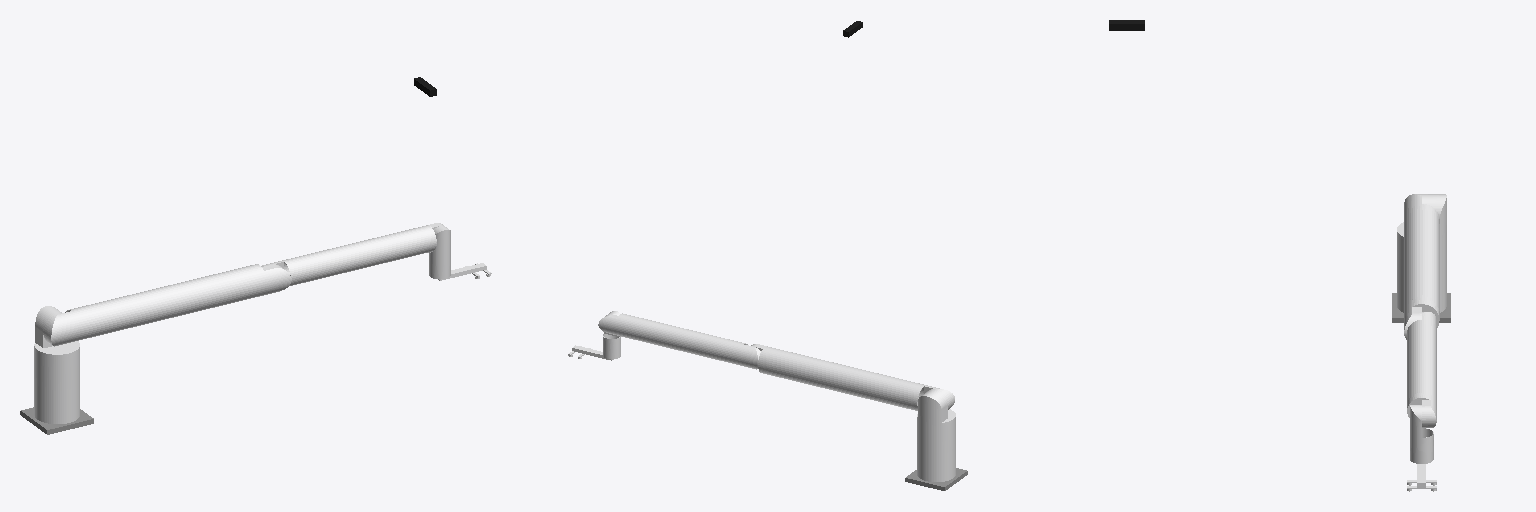
robot.urdf — band_gruppebot:
<?xml version="1.0" ?>
<!-- =================================================================================== -->
<!-- |    This document was autogenerated by xacro from urdf/band_gruppebot.urdf.xacro     | -->
<!-- |    EDITING THIS FILE BY HAND IS NOT RECOMMENDED                                 | -->
<!-- =================================================================================== -->
<!--
  band_gruppebot - komplett robotsystem (krav 5.i)

  Denne fila setter sammen:
    1. robotarmen fra Fusion (urdf/assemblies/band_gruppebot.urdf.xacro)
    2. feste til verden (world), slik at roboten ikke velter i Gazebo
    3. dh_base: basisrammen som DH-tabellen i MATLAB bruker (oppå fotplata)
    4. tcp_link: verktøypunktet (sugekoppene)
    5. kameraet over båndet
    6. ros2_control + Gazebo-plugin (bare når sim_gazebo:=true)

  Argumenter:
    prefix:=...           prefiks på ledd/lenker
    sim_gazebo:=true      bruk Gazebo som "hardware" (ellers mock_components)
    kamera_sensor:=true   la Gazebo rendre kamerabilde (krever GPU/OpenGL)
    antall_esker:=6       antall esker (eske1, eske2, ...) som vakuumet kan holde
-->
<robot name="band_gruppebot">
  <!-- Materials (shared across all assemblies) -->
  <material name="Steel">
    <color rgba="0.627 0.627 0.627 1.0"/>
  </material>
  <material name="Aluminum">
    <color rgba="0.961 0.961 0.965 1.0"/>
  </material>
  <material name="Kamera">
    <color rgba="0.15 0.15 0.15 1.0"/>
  </material>
  <!-- Links -->
  <link name="base_link">
    <inertial>
      <origin rpy="0 0 0" xyz="0.000000 0.000000 0.009985"/>
      <mass value="6.267669"/>
      <inertia ixx="2.114164e-02" ixy="0.000000e+00" ixz="0.000000e+00" iyy="2.114164e-02" iyz="0.000000e+00" izz="4.186605e-02"/>
    </inertial>
    <visual>
      <origin rpy="0.000000 0.000000 0.000000" xyz="0.000000 0.000000 0.000000"/>
      <geometry>
        <mesh filename="package://band_gruppebot/meshes/band_gruppebot/base_link.dae" scale="1 1 1"/>
      </geometry>
      <material name="Steel"/>
    </visual>
    <collision>
      <origin rpy="0.000000 0.000000 0.000000" xyz="0.000000 0.000000 0.000000"/>
      <geometry>
        <mesh filename="package://band_gruppebot/meshes/band_gruppebot/base_link_collision.stl" scale="0.01 0.01 0.01"/>
      </geometry>
    </collision>
  </link>
  <link name="shoulder_link">
    <inertial>
      <origin rpy="0 0 0" xyz="-0.000000 0.033386 0.315321"/>
      <mass value="3.344565"/>
      <inertia ixx="3.043471e-02" ixy="-8.567490e-10" ixz="3.745206e-09" iyy="3.105513e-02" iyz="-3.633313e-03" izz="8.309956e-03"/>
    </inertial>
    <visual>
      <origin rpy="0.000000 0.000000 0.000000" xyz="0.000000 0.000000 0.005000"/>
      <geometry>
        <mesh filename="package://band_gruppebot/meshes/band_gruppebot/shoulder_link.dae" scale="1 1 1"/>
      </geometry>
      <material name="Aluminum"/>
    </visual>
    <collision>
      <origin rpy="0.000000 0.000000 0.000000" xyz="0.000000 0.000000 0.005000"/>
      <geometry>
        <mesh filename="package://band_gruppebot/meshes/band_gruppebot/shoulder_link_collision.stl" scale="0.01 0.01 0.01"/>
      </geometry>
    </collision>
  </link>
  <link name="link1">
    <inertial>
      <origin rpy="0 0 0" xyz="0.408620 0.000000 0.025613"/>
      <mass value="3.873242"/>
      <inertia ixx="6.431192e-03" ixy="0.000000e+00" ixz="2.503152e-04" iyy="6.715709e-01" iyz="0.000000e+00" izz="6.725922e-01"/>
    </inertial>
    <visual>
      <origin rpy="0.000000 1.570796 0.000000" xyz="0.000000 0.000000 0.005016"/>
      <geometry>
        <mesh filename="package://band_gruppebot/meshes/band_gruppebot/link1.dae" scale="1 1 1"/>
      </geometry>
      <material name="Aluminum"/>
    </visual>
    <collision>
      <origin rpy="0.000000 1.570796 0.000000" xyz="0.000000 0.000000 0.005016"/>
      <geometry>
        <mesh filename="package://band_gruppebot/meshes/band_gruppebot/link1_collision.stl" scale="0.01 0.01 0.01"/>
      </geometry>
    </collision>
  </link>
  <link name="link2">
    <inertial>
      <origin rpy="0 0 0" xyz="0.309362 0.000000 -0.021661"/>
      <mass value="2.256077"/>
      <inertia ixx="2.691771e-03" ixy="0.000000e+00" ixz="-9.486061e-05" iyy="2.320565e-01" iyz="0.000000e+00" izz="2.324156e-01"/>
    </inertial>
    <visual>
      <origin rpy="-3.141593 -1.570796 0.000000" xyz="0.000000 0.000000 -0.005016"/>
      <geometry>
        <mesh filename="package://band_gruppebot/meshes/band_gruppebot/link2.dae" scale="1 1 1"/>
      </geometry>
      <material name="Aluminum"/>
    </visual>
    <collision>
      <origin rpy="-3.141593 -1.570796 0.000000" xyz="0.000000 0.000000 -0.005016"/>
      <geometry>
        <mesh filename="package://band_gruppebot/meshes/band_gruppebot/link2_collision.stl" scale="0.01 0.01 0.01"/>
      </geometry>
    </collision>
  </link>
  <link name="link3">
    <inertial>
      <origin rpy="0 0 0" xyz="-0.000000 -0.034255 0.018632"/>
      <mass value="0.818636"/>
      <inertia ixx="2.587701e-03" ixy="0.000000e+00" ixz="0.000000e+00" iyy="5.226183e-04" iyz="-2.341627e-04" izz="2.718987e-03"/>
    </inertial>
    <visual>
      <origin rpy="1.570796 -1.570796 0.000000" xyz="0.000000 0.000000 0.005016"/>
      <geometry>
        <mesh filename="package://band_gruppebot/meshes/band_gruppebot/link3.dae" scale="1 1 1"/>
      </geometry>
      <material name="Aluminum"/>
    </visual>
    <collision>
      <origin rpy="1.570796 -1.570796 0.000000" xyz="0.000000 0.000000 0.005016"/>
      <geometry>
        <mesh filename="package://band_gruppebot/meshes/band_gruppebot/link3_collision.stl" scale="0.01 0.01 0.01"/>
      </geometry>
    </collision>
  </link>
  <link name="gripper">
    <inertial>
      <origin rpy="0 0 0" xyz="0.119141 0.000000 0.018417"/>
      <mass value="0.090864"/>
      <inertia ixx="4.767636e-05" ixy="0.000000e+00" ixz="-2.251846e-05" iyy="3.554728e-04" iyz="0.000000e+00" izz="3.914721e-04"/>
    </inertial>
    <visual>
      <origin rpy="0.000000 0.000000 -1.570796" xyz="0.000000 0.000000 0.006000"/>
      <geometry>
        <mesh filename="package://band_gruppebot/meshes/band_gruppebot/gripper.dae" scale="1 1 1"/>
      </geometry>
      <material name="Aluminum"/>
    </visual>
    <collision>
      <origin rpy="0.000000 0.000000 -1.570796" xyz="0.000000 0.000000 0.006000"/>
      <geometry>
        <mesh filename="package://band_gruppebot/meshes/band_gruppebot/gripper_collision.stl" scale="0.01 0.01 0.01"/>
      </geometry>
    </collision>
  </link>
  <!-- Joints (internal to assembly) -->
  <joint name="Revolute_1" type="continuous">
    <parent link="base_link"/>
    <child link="shoulder_link"/>
    <origin rpy="0.000000 0.000000 0.000000" xyz="0.000000 0.000000 0.015000"/>
    <axis xyz="0.000000 0.000000 1.000000"/>
    <limit effort="300.0" velocity="10.0"/>
  </joint>
  <joint name="Revolute_2" type="continuous">
    <parent link="shoulder_link"/>
    <child link="link1"/>
    <origin rpy="1.570796 0.000000 0.000000" xyz="0.000000 0.005000 0.355000"/>
    <axis xyz="0.000000 0.000000 1.000000"/>
    <limit effort="500.0" velocity="10.0"/>
  </joint>
  <joint name="Revolute_3" type="continuous">
    <parent link="link1"/>
    <child link="link2"/>
    <origin rpy="0.000000 0.000000 0.000000" xyz="0.920000 0.000000 0.010016"/>
    <axis xyz="0.000000 0.000000 1.000000"/>
    <limit effort="300.0" velocity="10.0"/>
  </joint>
  <joint name="Revolute_4" type="continuous">
    <parent link="link2"/>
    <child link="link3"/>
    <origin rpy="0.000000 0.000000 0.000000" xyz="0.720000 0.000000 -0.010016"/>
    <axis xyz="0.000000 0.000000 1.000000"/>
    <limit effort="100.0" velocity="10.0"/>
  </joint>
  <joint name="Revolute_5" type="continuous">
    <parent link="link3"/>
    <child link="gripper"/>
    <origin rpy="1.570796 0.000000 0.000000" xyz="0.000000 -0.155000 0.005016"/>
    <axis xyz="0.000000 0.000000 1.000000"/>
    <limit effort="50.0" velocity="10.0"/>
  </joint>

  <link name="world"/>
  <joint name="world_fixed" type="fixed">
    <parent link="world"/>
    <child link="base_link"/>
    <origin rpy="0 0 0" xyz="0 0 0"/>
  </joint>

  <link name="dh_base"/>
  <joint name="base_to_dh_base" type="fixed">
    <parent link="base_link"/>
    <child link="dh_base"/>
    <origin rpy="0 0 0" xyz="0 0 0.02"/>
  </joint>

  <link name="tcp_link"/>
  <joint name="gripper_to_tcp" type="fixed">
    <parent link="gripper"/>
    <child link="tcp_link"/>
    <origin rpy="0.0 0.0 0.0" xyz="0.17 0.0 0.035"/>
  </joint>
  
  <link name="kamera_link">
    <inertial>
      <origin rpy="0 0 0" xyz="0 0 0"/>
      <mass value="0.4"/>
      <inertia ixx="5e-4" ixy="0" ixz="0" iyy="5e-4" iyz="0" izz="5e-4"/>
    </inertial>
    <visual>
      <origin rpy="0 0 0" xyz="-0.013 0 0"/>
      <geometry>
        <box size="0.026 0.124 0.029"/>
      </geometry>
      <material name="Kamera"/>
    </visual>
  </link>
  <joint name="base_to_kamera" type="fixed">
    <parent link="dh_base"/>
    <child link="kamera_link"/>
    <origin rpy="0 1.5707963267948966 0" xyz="1.0 -1.0 1.5"/>
  </joint>
  <link name="kamera_optisk"/>
  <joint name="kamera_to_optisk" type="fixed">
    <parent link="kamera_link"/>
    <child link="kamera_optisk"/>
    <!-- gir dh_base -> kamera_optisk = Rx(pi) -->
    <origin rpy="3.141592653589793 -1.5707963267948966 0" xyz="0 0 0"/>
  </joint>
  <ros2_control name="band_gruppebot_system" type="system">
    <hardware>
      <plugin>mock_components/GenericSystem</plugin>
    </hardware>
    <joint name="Revolute_1">
      <command_interface name="velocity"/>
      <state_interface name="position">
        <param name="initial_value">0.0</param>
      </state_interface>
      <state_interface name="velocity"/>
      <state_interface name="effort"/>
    </joint>
    <joint name="Revolute_2">
      <command_interface name="velocity"/>
      <state_interface name="position">
        <param name="initial_value">1.6371</param>
      </state_interface>
      <state_interface name="velocity"/>
      <state_interface name="effort"/>
    </joint>
    <joint name="Revolute_3">
      <command_interface name="velocity"/>
      <state_interface name="position">
        <param name="initial_value">-2.1101</param>
      </state_interface>
      <state_interface name="velocity"/>
      <state_interface name="effort"/>
    </joint>
    <joint name="Revolute_4">
      <command_interface name="velocity"/>
      <state_interface name="position">
        <param name="initial_value">0.473</param>
      </state_interface>
      <state_interface name="velocity"/>
      <state_interface name="effort"/>
    </joint>
    <joint name="Revolute_5">
      <command_interface name="velocity"/>
      <state_interface name="position">
        <param name="initial_value">0.0</param>
      </state_interface>
      <state_interface name="velocity"/>
      <state_interface name="effort"/>
    </joint>
  </ros2_control>
</robot>

--- Render facts (derived) ---
The picture shows the robot from 3 angles, left to right: view 1: azimuth 30°, elevation 25°; view 2: azimuth 150°, elevation 25°; view 3: azimuth 270°, elevation 25°; orthographic projection.
Model band_gruppebot with 11 links and 10 joints (5 continuous, 5 fixed), rooted at world, posed all joints at 0.
Links seen in each view (by area): view 1: link1, link2, shoulder_link, link3, base_link; view 2: link1, link2, shoulder_link; view 3: link1, link2, shoulder_link, link3.
Boxes of the visible links, box(x1,y1,x2,y2) form: link1: box(43, 264, 291, 346); link2: box(261, 223, 443, 285); shoulder_link: box(34, 306, 79, 423); link3: box(429, 226, 450, 279); base_link: box(20, 407, 93, 434); link1: box(751, 344, 954, 410); link2: box(598, 313, 760, 369); shoulder_link: box(917, 389, 955, 481); link1: box(1404, 194, 1439, 339); link2: box(1407, 312, 1436, 427); shoulder_link: box(1397, 194, 1446, 312); link3: box(1410, 405, 1433, 463).
Size in the robot's own frame: 1.94 by 1.16 by 1.55 metres.
6 mesh visuals loaded from 6 distinct referenced files (6 Collada DAE).
